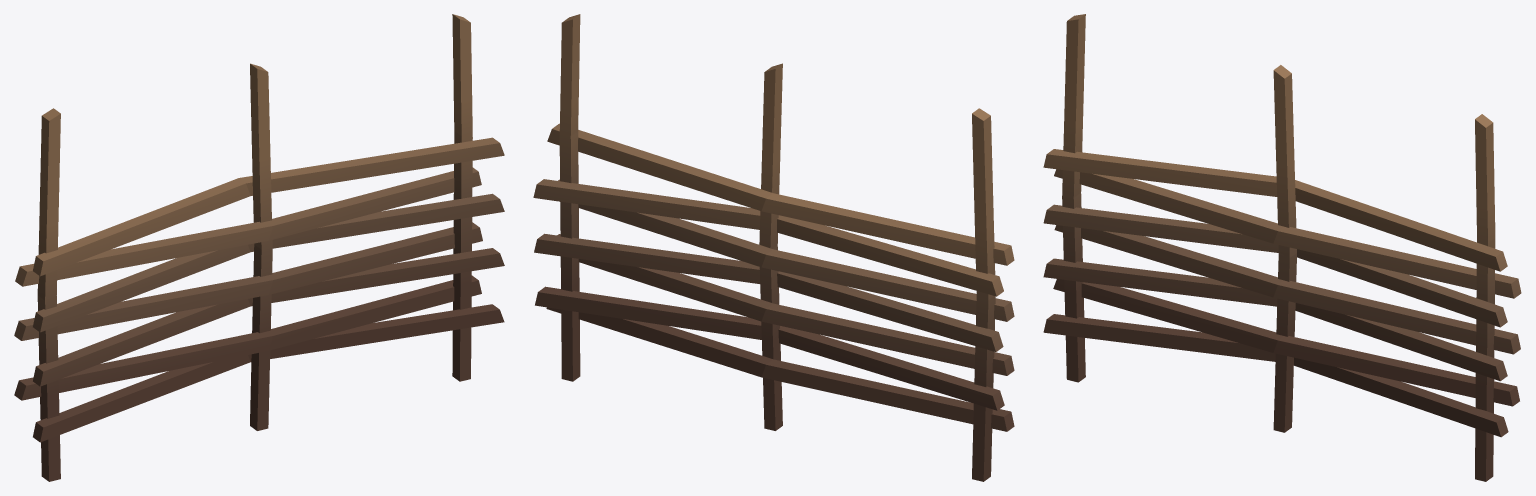
The model's file is Fence Wood V3 2.glb.
3 renders of one model, left to right at view 1: azimuth 30°, elevation 25°; view 2: azimuth 150°, elevation 25°; view 3: azimuth 330°, elevation 25°, orthographic.
Visible parts, largest first — view 1: Fence Wood V3 2; view 2: Fence Wood V3 2; view 3: Fence Wood V3 2.
Part boxes in pixels (<box>): Fence Wood V3 2: <box>14,14,504,481</box>; Fence Wood V3 2: <box>533,14,1014,481</box>; Fence Wood V3 2: <box>1043,14,1521,481</box>.
Size of what is drawn, in the model's own units: 2.03 by 1.52 by 0.2063.
1 material, 1 textured.
